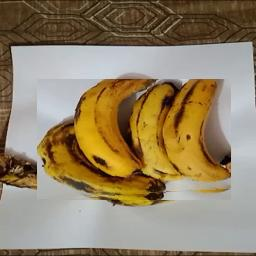Banana Semifresh: (37, 80, 231, 201)
